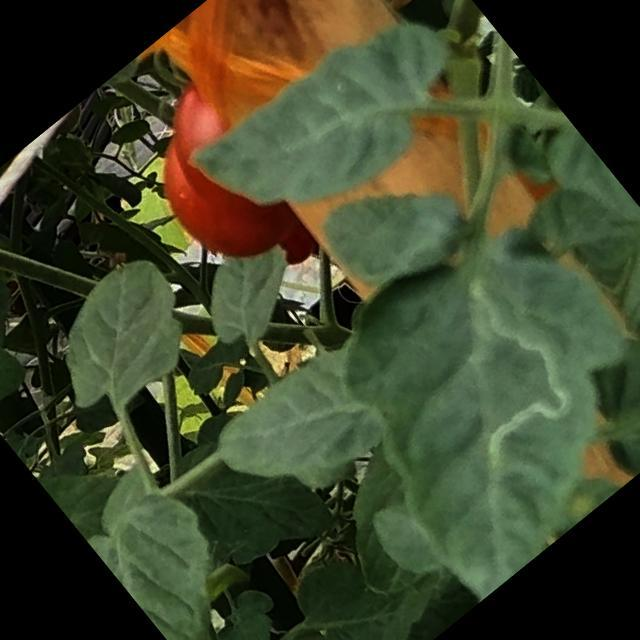Tomato healthy leaf: (176, 0, 488, 267), (25, 247, 217, 434)
Tomato target spot leaf: (282, 181, 640, 606), (562, 272, 640, 472)
